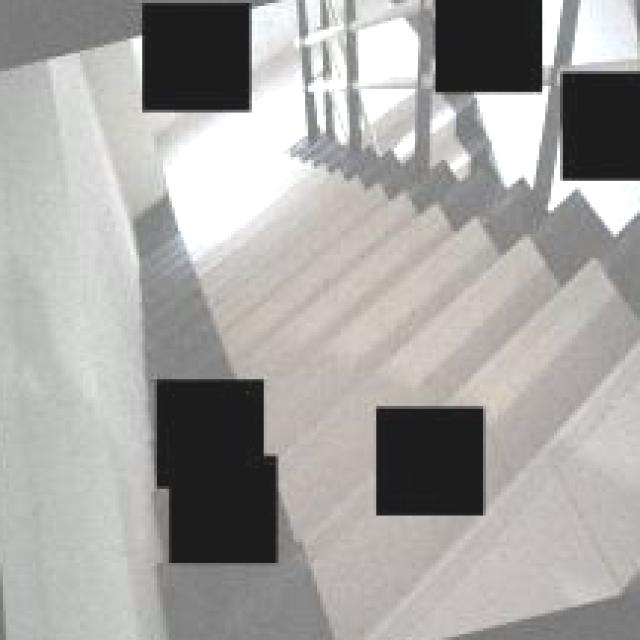downstair: (209, 215, 449, 357)
